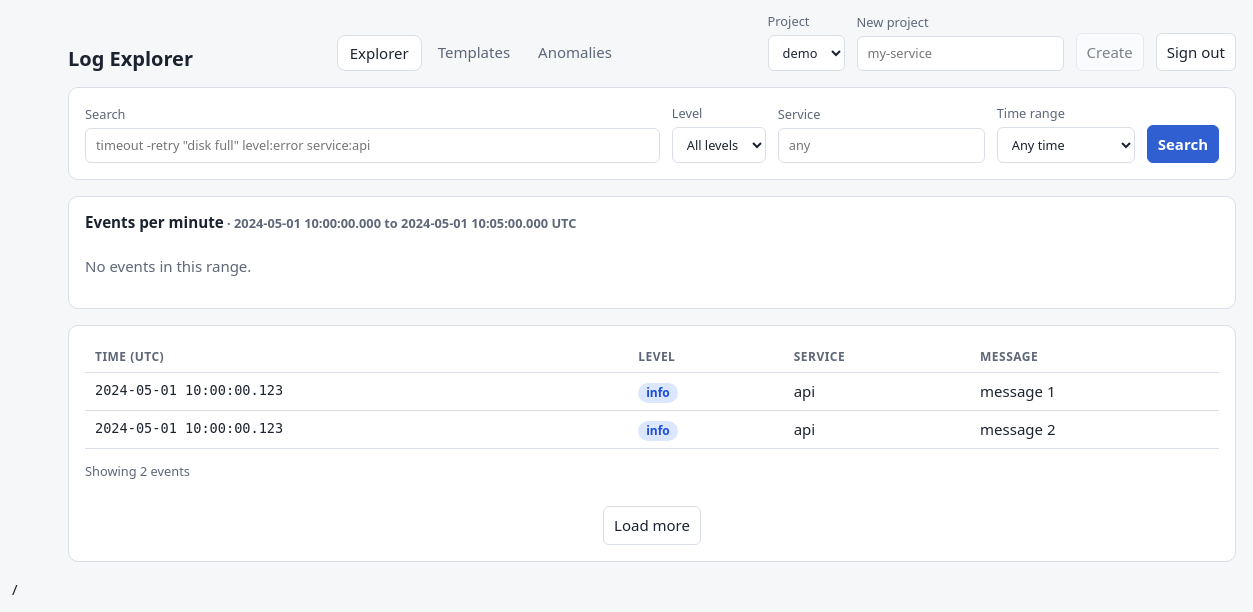
Test case: pagination › appends the next page and hides Load more at the end
Expected: the text "message 1" is shown, [970,373,1219,411]
Click the button "Load more" at (652, 525), box [603,506,701,544]
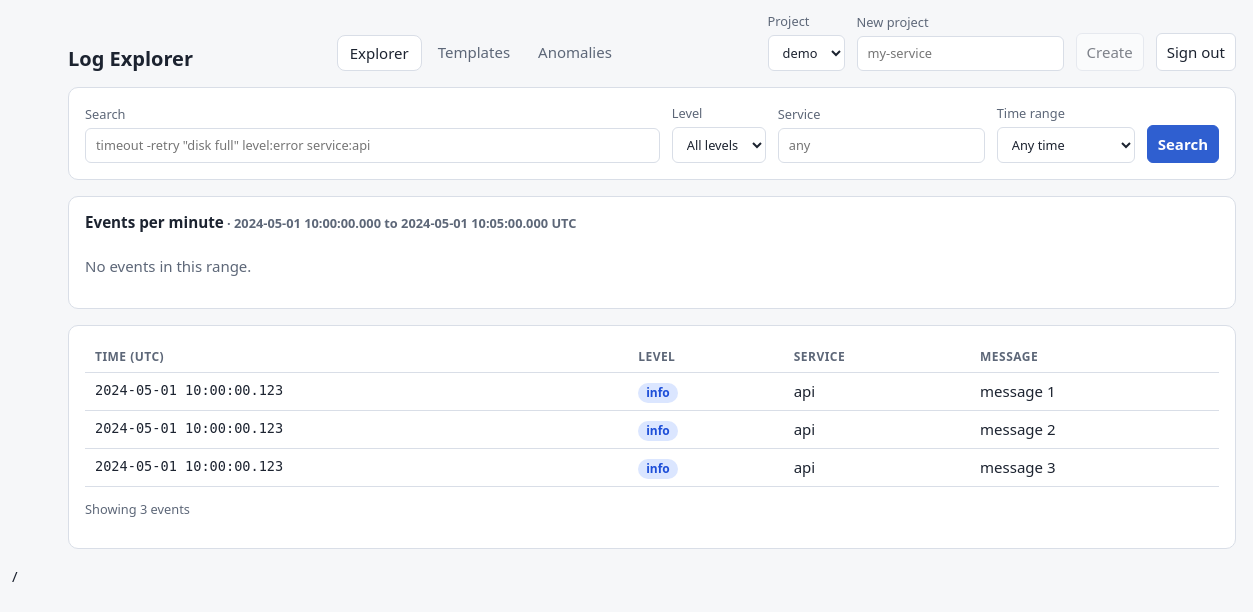
Now the text "message 3" is shown, box [970,449,1219,487]
Now the text "Showing 3 events" is shown, box [85,500,190,518]
Now the button "Load more" is gone
